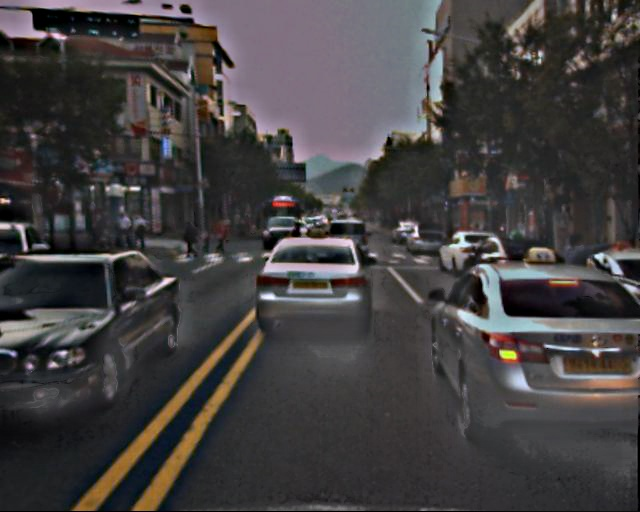person: (557, 232, 600, 338), (99, 209, 147, 246), (182, 218, 201, 264), (213, 216, 229, 255), (202, 227, 213, 254)
